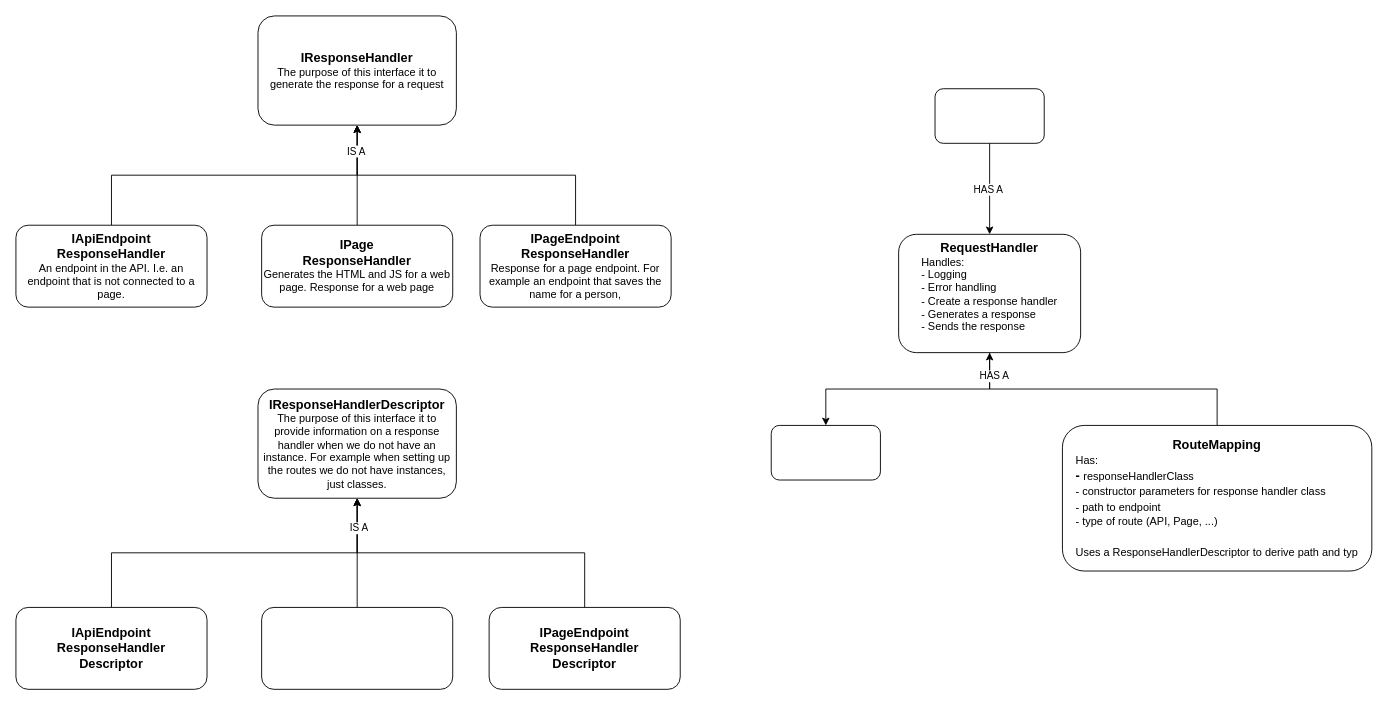
Some shapes in this 1388 by 705 pixel diagram are drawn without their labels. Here are the shapes that lost their labels. From the top down, the centre of each, then its label:
pixel 989 115: Javalin Route
pixel 825 452: ILogger
pixel 357 648: IPage ResponseHandler Descriptor
